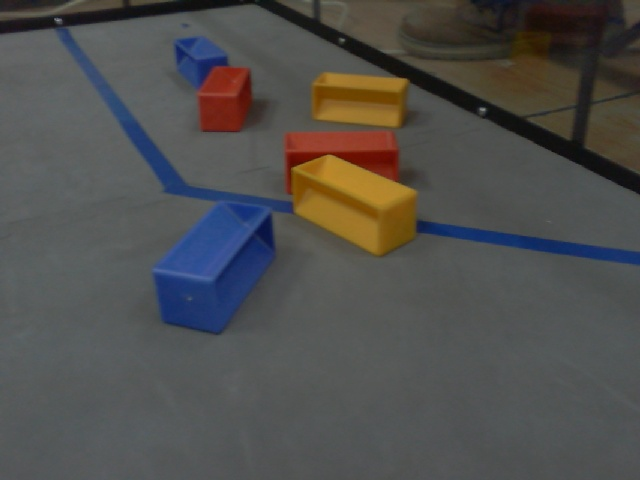BlueSample: (152, 197, 279, 336), (169, 34, 233, 89)
RedSample: (280, 127, 411, 191), (194, 59, 257, 136)
YellowSample: (285, 152, 421, 258), (308, 69, 412, 131)
